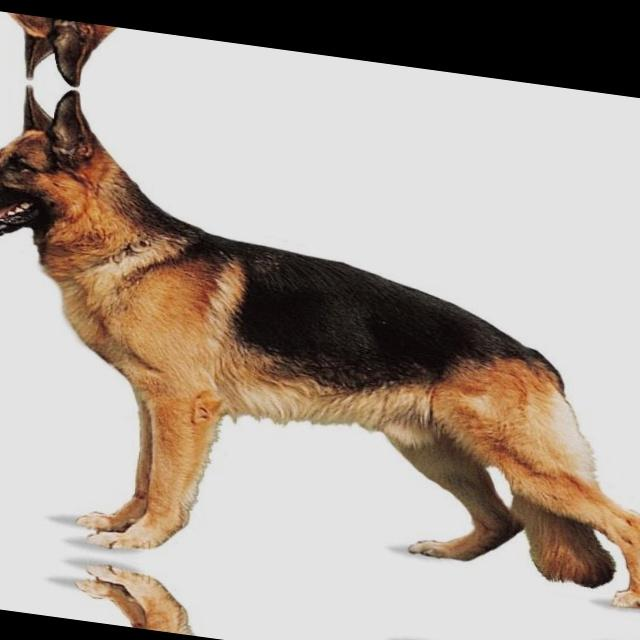dog: (0, 69, 640, 623), (0, 2, 640, 168), (0, 540, 640, 640)
